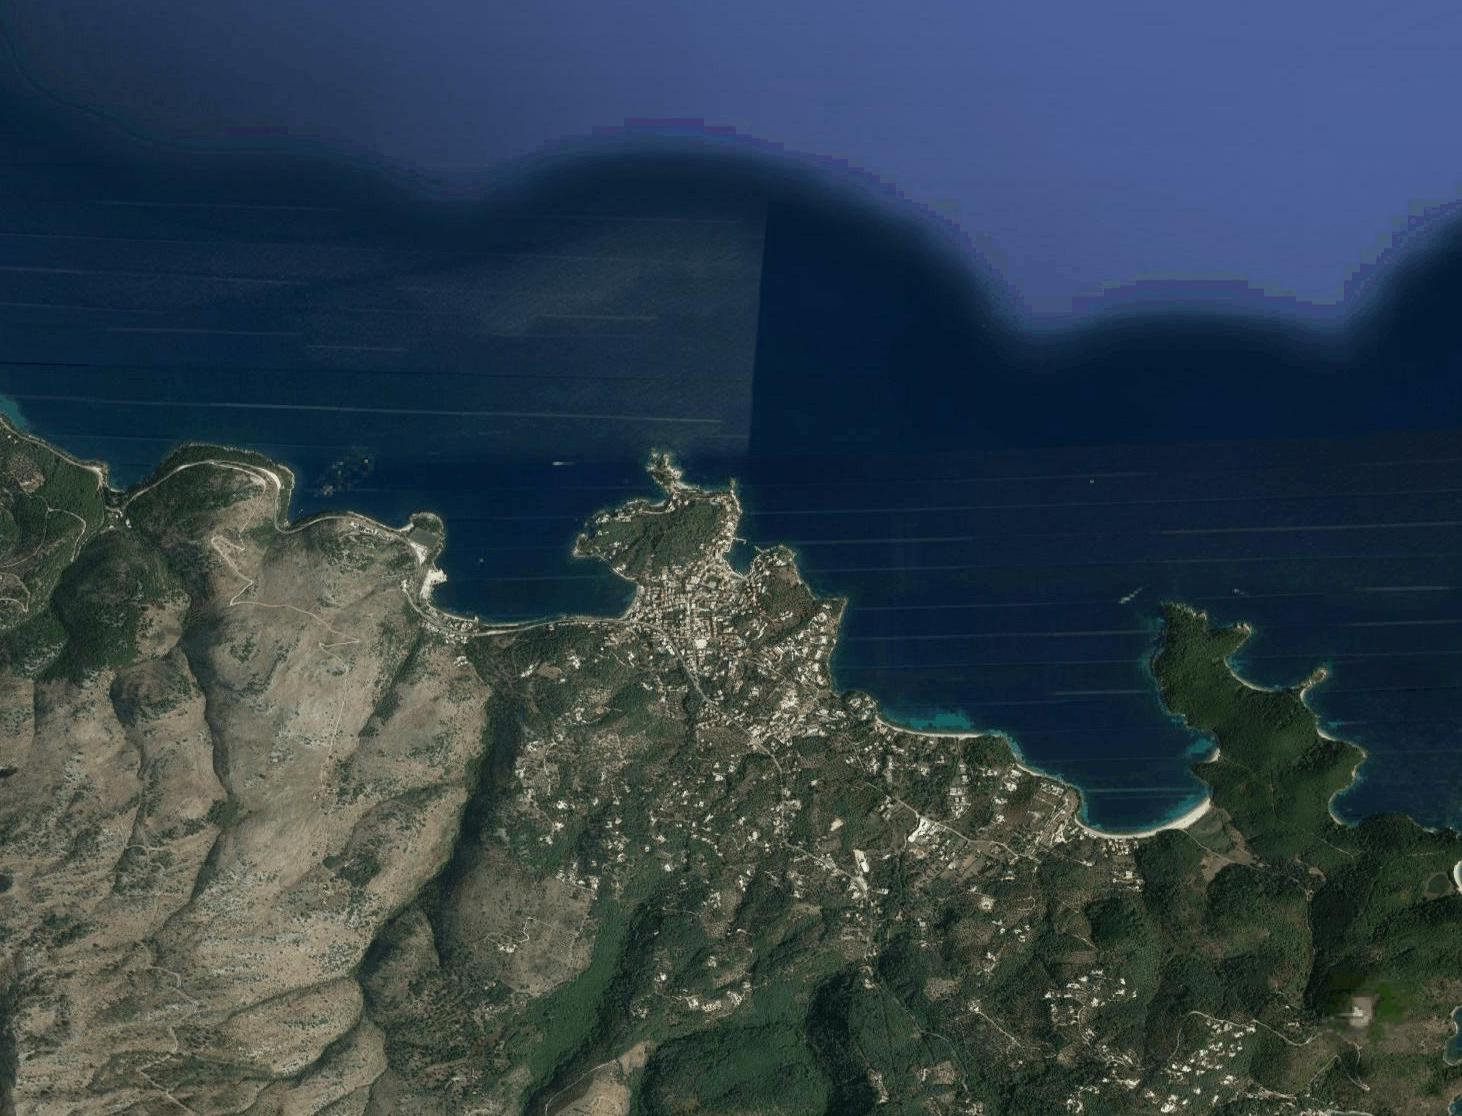harbor: (719, 531, 764, 577)
